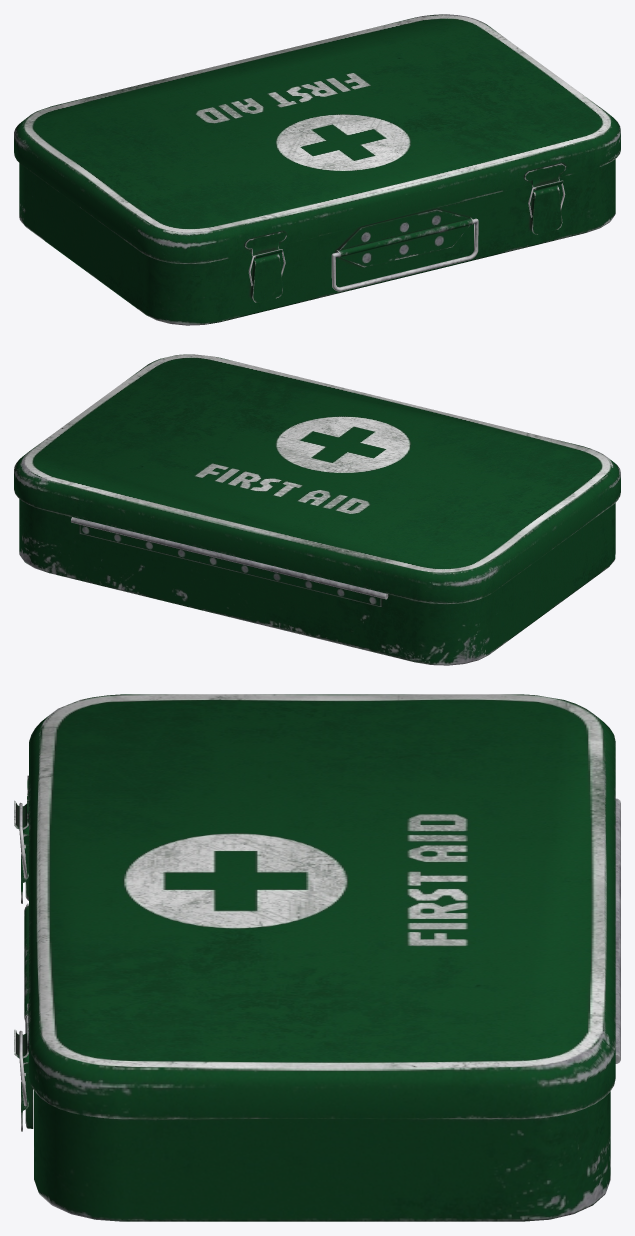
File: medical_box.glb
The picture shows the model from 3 angles, top to bottom: view 1: azimuth 30°, elevation 25°; view 2: azimuth 150°, elevation 25°; view 3: azimuth 270°, elevation 25°; orthographic projection. The views are drawn at different scales.
Visible parts, largest first — view 1: medical_box_latch; view 2: medical_box_latch; view 3: medical_box_latch.
Part boxes in pixels (x1=…): medical_box_latch: x1=14, y1=14, x2=620, y2=325; medical_box_latch: x1=14, y1=354, x2=620, y2=665; medical_box_latch: x1=14, y1=694, x2=620, y2=1221.
Size of the model in its own units: 0.5255 by 0.0975 by 0.3501.
Materials: 1 (1 with a texture image).
